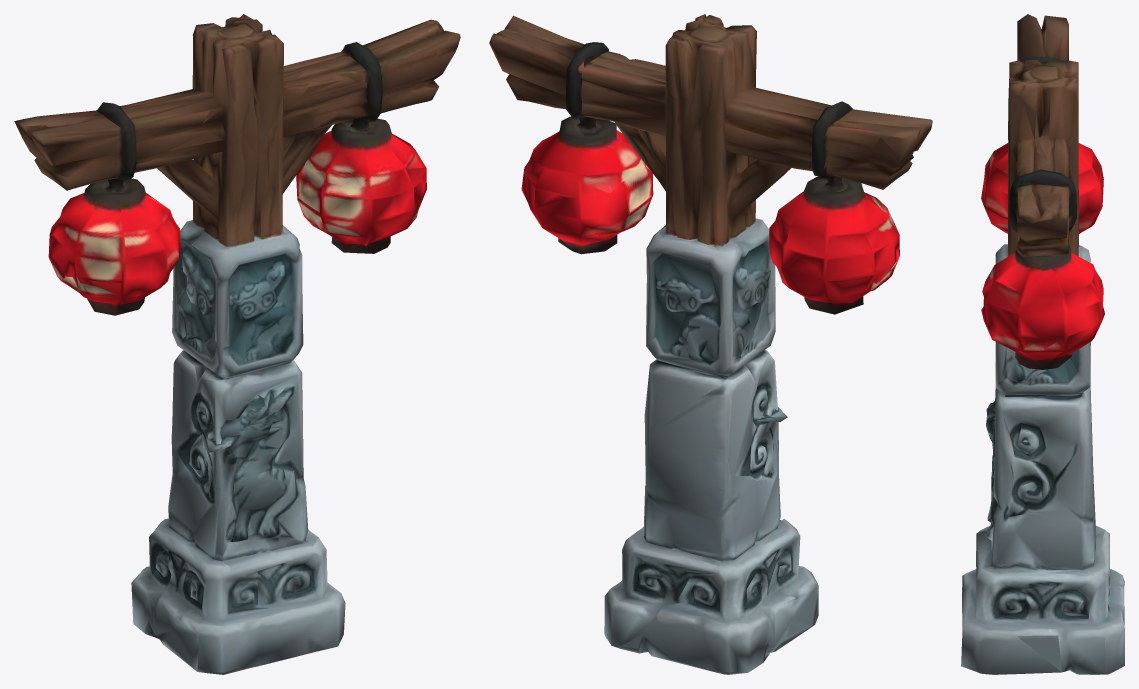
The model's file is prop_lantern_post.glb.
3 renders of one model, left to right at view 1: azimuth 30°, elevation 25°; view 2: azimuth 150°, elevation 25°; view 3: azimuth 270°, elevation 25°, orthographic. The views are drawn at different scales.
Parts seen in each view (by area): view 1: tripo_node_6d5a4573-3ea8-44f5-8943-5d84845f8844; view 2: tripo_node_6d5a4573-3ea8-44f5-8943-5d84845f8844; view 3: tripo_node_6d5a4573-3ea8-44f5-8943-5d84845f8844.
Boxes of the visible parts, x1=… form: tripo_node_6d5a4573-3ea8-44f5-8943-5d84845f8844: x1=14, y1=14, x2=460, y2=674; tripo_node_6d5a4573-3ea8-44f5-8943-5d84845f8844: x1=489, y1=14, x2=932, y2=674; tripo_node_6d5a4573-3ea8-44f5-8943-5d84845f8844: x1=961, y1=14, x2=1124, y2=674.
Bounding box in the file's own units: 0.7294 × 0.9811 × 0.2555.
Materials: 1 (1 with a texture image).
